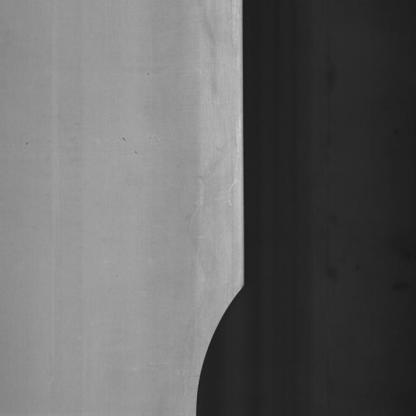crescent_gap: (192, 278, 255, 416)
